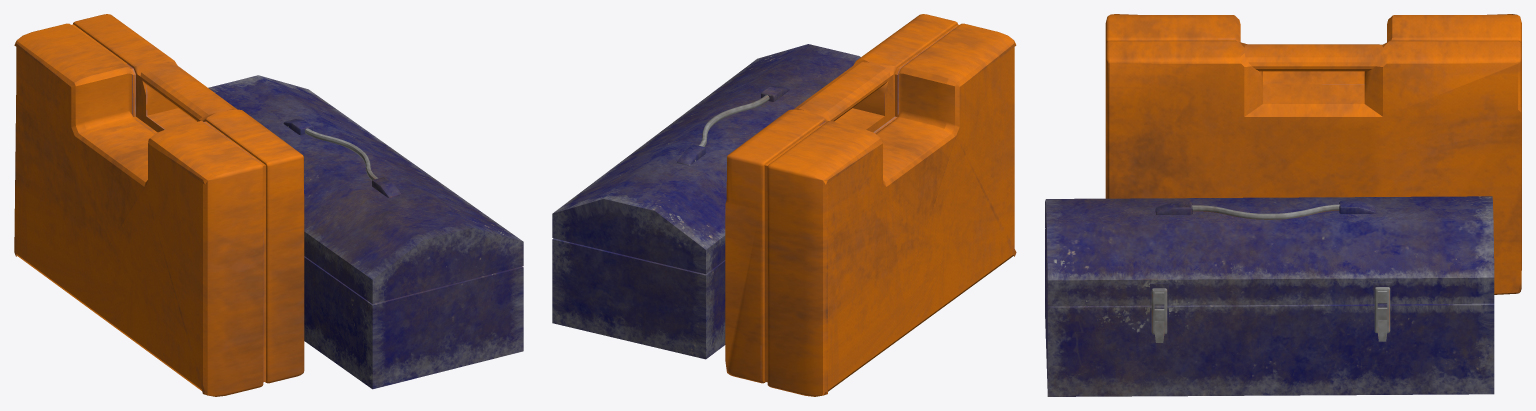
File: CASE 2.fbx
3 renders of one model, left to right at view 1: azimuth 30°, elevation 25°; view 2: azimuth 150°, elevation 25°; view 3: azimuth 270°, elevation 25°, orthographic. The views are drawn at different scales.
Parts seen in each view (by area): view 1: case 1.001; view 2: case 1.001; view 3: case 1.001.
Part boxes in pixels (x1,y1,x2,y2): case 1.001: (14,14,523,396); case 1.001: (552,14,1016,396); case 1.001: (1045,14,1521,396).
Bounding box in the file's own units: 40.78 × 29.66 × 53.89.
1 material, 1 textured.
